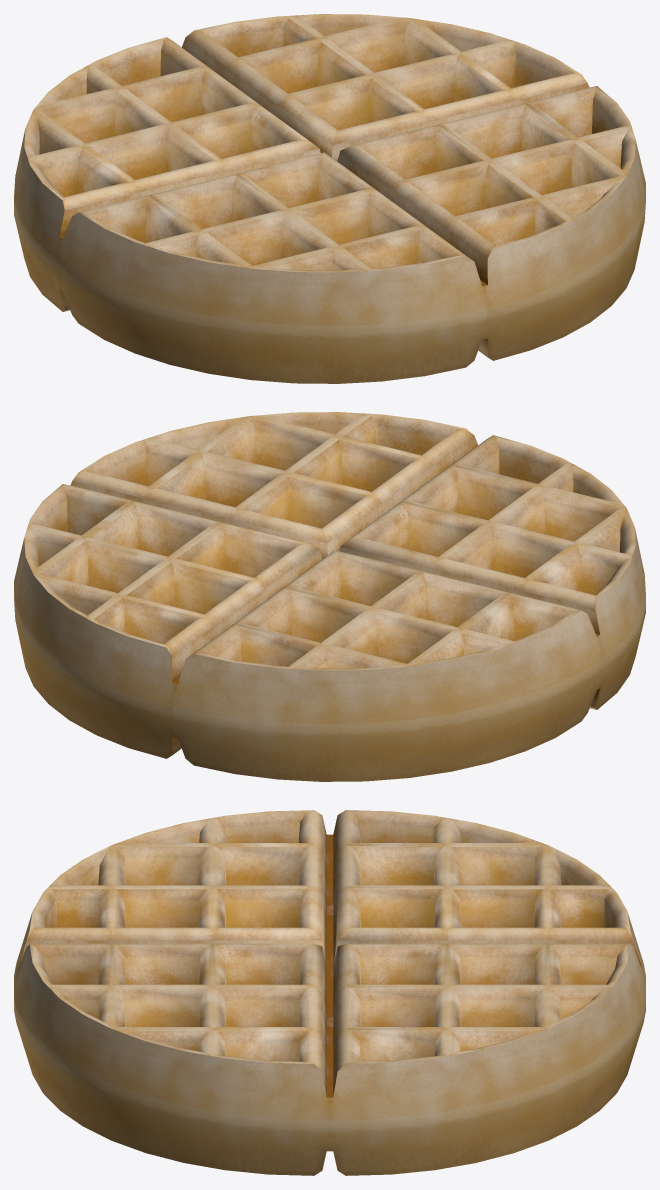
File: Waffle.fbx
3 renders of one model, top to bottom at view 1: azimuth 30°, elevation 25°; view 2: azimuth 150°, elevation 25°; view 3: azimuth 270°, elevation 25°, orthographic.
Visible parts, largest first — view 1: Waffle; view 2: Waffle; view 3: Waffle.
Boxes of the visible parts, x1,y1,x2,y2 form: Waffle: (14,14,645,383); Waffle: (14,412,645,781); Waffle: (14,810,645,1175).
Size of the model in its own units: 223 by 43.54 by 223.
